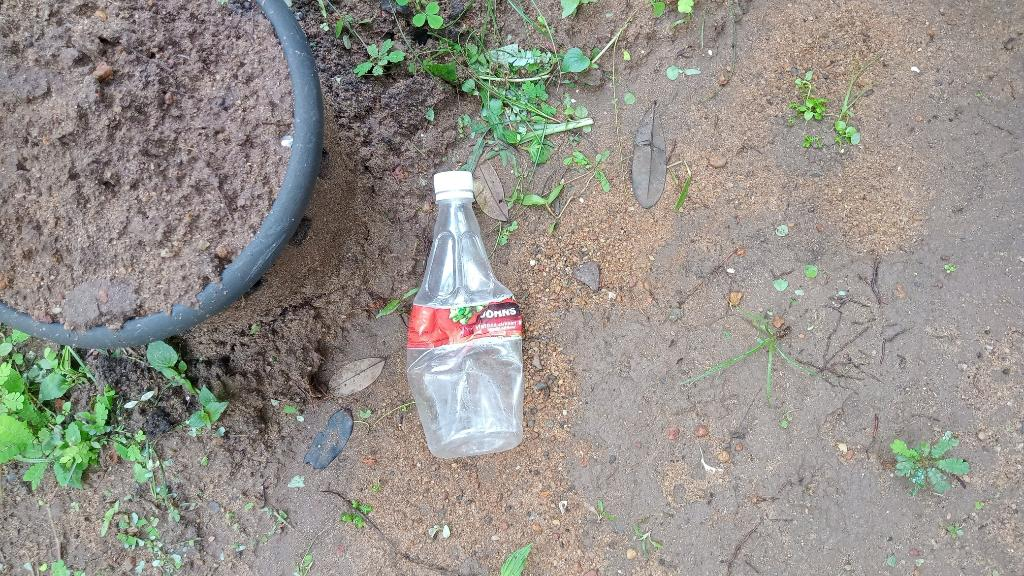garbage: (396, 155, 536, 477)
